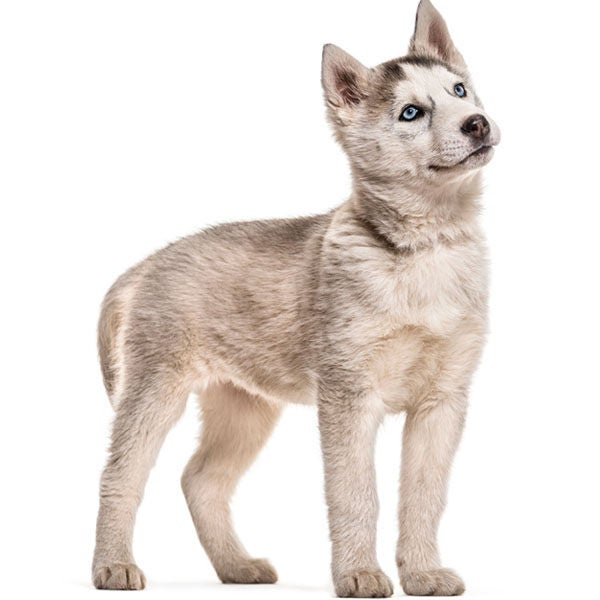husky: (243, 6, 515, 452)
